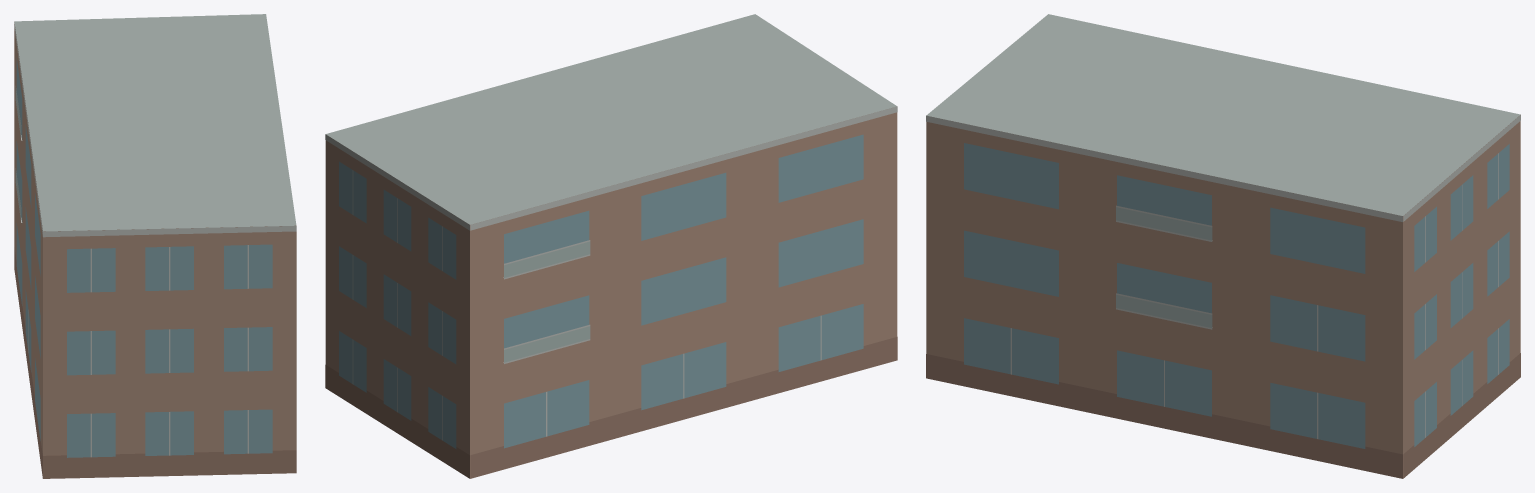
Rendered from survey-upis-32946375.glb.
3 renders of one model, left to right at view 1: azimuth 30°, elevation 25°; view 2: azimuth 150°, elevation 25°; view 3: azimuth 270°, elevation 25°, orthographic. The views are drawn at different scales.
Visible parts, largest first — view 1: survey-upis-32946375.tmp; view 2: survey-upis-32946375.tmp; view 3: survey-upis-32946375.tmp.
Boxes of the visible parts, x1,y1,x2,y2 form: survey-upis-32946375.tmp: [14, 14, 296, 478]; survey-upis-32946375.tmp: [325, 14, 897, 478]; survey-upis-32946375.tmp: [926, 14, 1520, 478].
Size of the model in its own units: 17.33 by 10.5 by 21.54.
